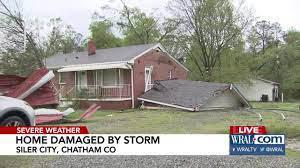major: (37, 41, 259, 116)
